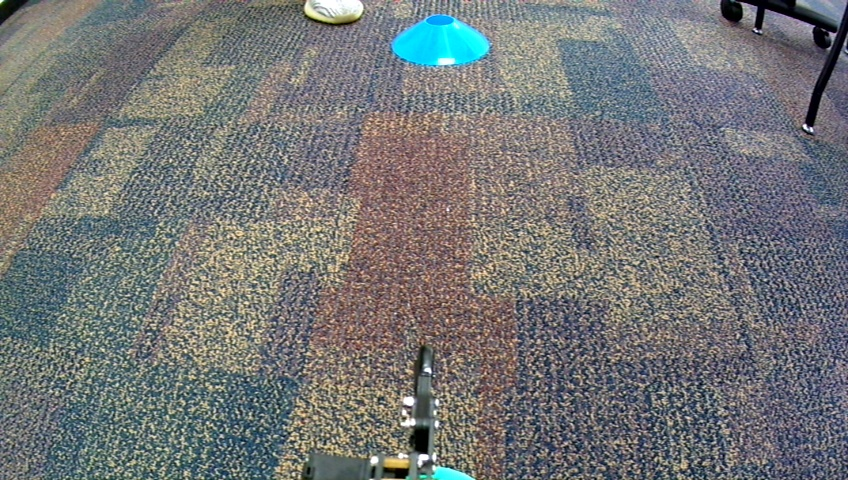cone: (391, 12, 490, 66)
